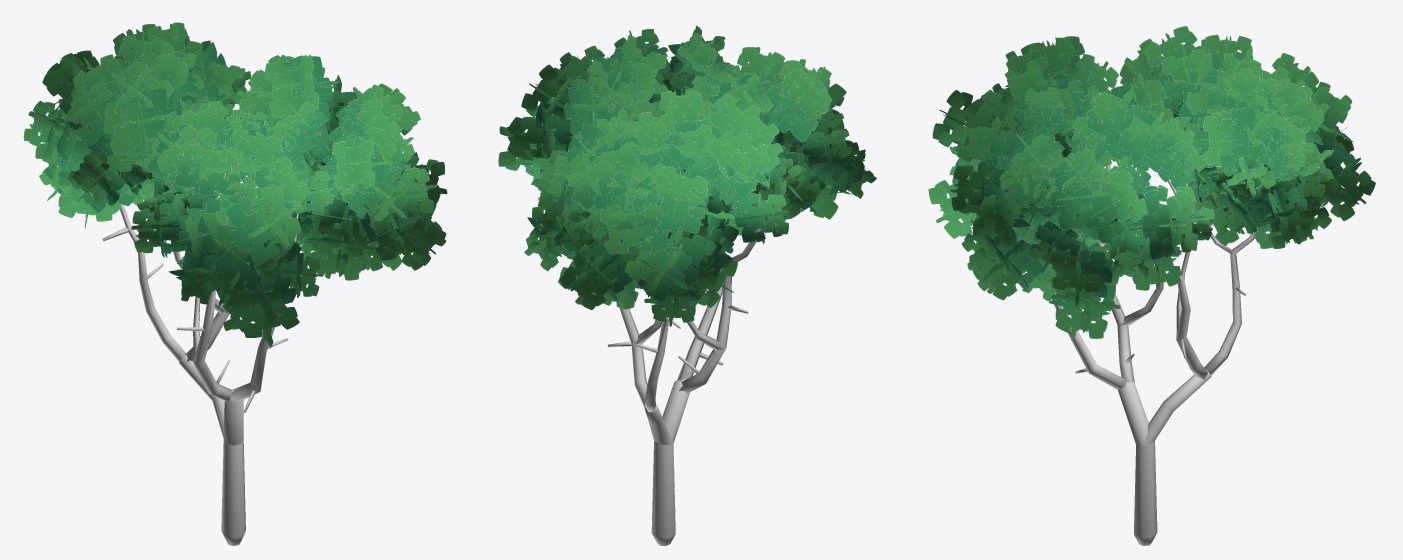
File: TSP_Tree_04A.fbx
3 views of the same model, side by side, from view 1: azimuth 30°, elevation 25°; view 2: azimuth 150°, elevation 25°; view 3: azimuth 270°, elevation 25° (orthographic). The views are drawn at different scales.
Visible parts, largest first — view 1: TSP_Tree_04A; view 2: TSP_Tree_04A; view 3: TSP_Tree_04A.
Part boxes in pixels (x1,y1,x2,y2): TSP_Tree_04A: (23, 22, 447, 545); TSP_Tree_04A: (498, 25, 876, 545); TSP_Tree_04A: (928, 26, 1375, 545).
Size of the model in its own units: 7.74 by 11.19 by 9.76.
